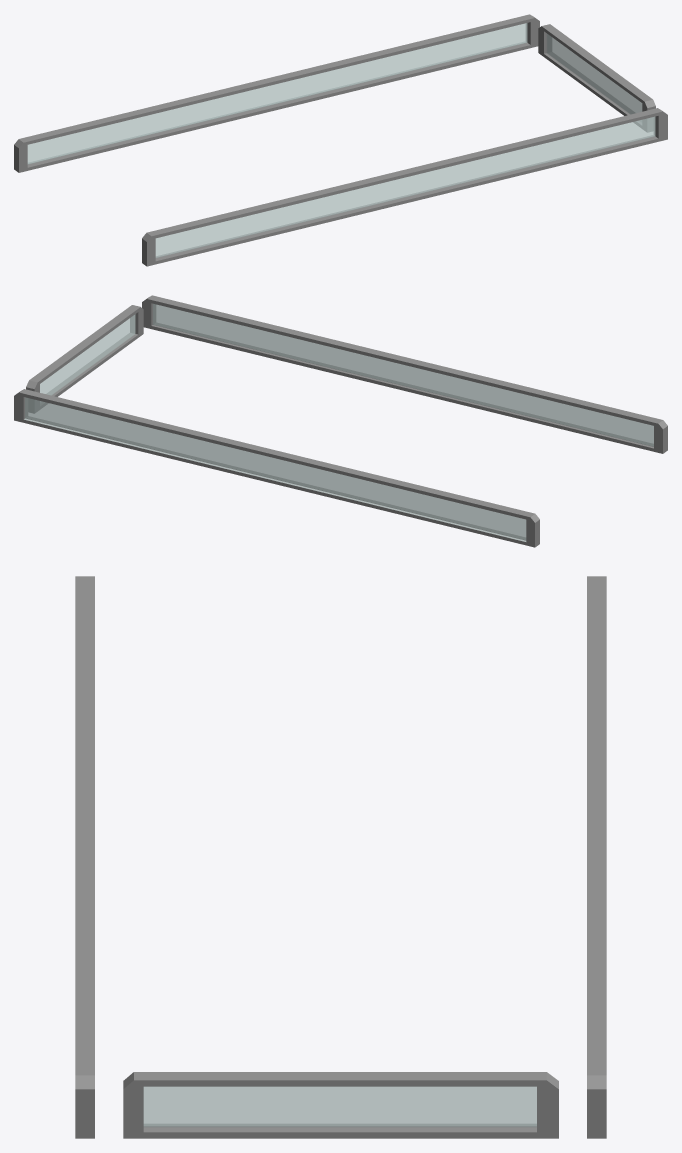
Rendered from Floor 1_2.fbx.
3 views of the same model, one above another, from view 1: azimuth 30°, elevation 25°; view 2: azimuth 150°, elevation 25°; view 3: azimuth 270°, elevation 25° (orthographic). The views are drawn at different scales.
Parts seen in each view (by area): view 1: Cutout Railing.002, Cutout Railing.001, Cutout Railing; view 2: Cutout Railing.001, Cutout Railing.002, Cutout Railing; view 3: Cutout Railing, Cutout Railing.001, Cutout Railing.002.
Boxes of the visible parts, left/top/right/bottom form: Cutout Railing.002: left=142, top=108, right=667, bottom=266; Cutout Railing.001: left=14, top=14, right=539, bottom=172; Cutout Railing: left=538, top=24, right=655, bottom=132; Cutout Railing.001: left=14, top=389, right=539, bottom=547; Cutout Railing.002: left=142, top=295, right=667, bottom=453; Cutout Railing: left=26, top=305, right=143, bottom=413; Cutout Railing: left=123, top=1072, right=558, bottom=1138; Cutout Railing.001: left=587, top=576, right=606, bottom=1138; Cutout Railing.002: left=75, top=576, right=94, bottom=1138.
Size of the model in its own units: 2002 by 107 by 884.
